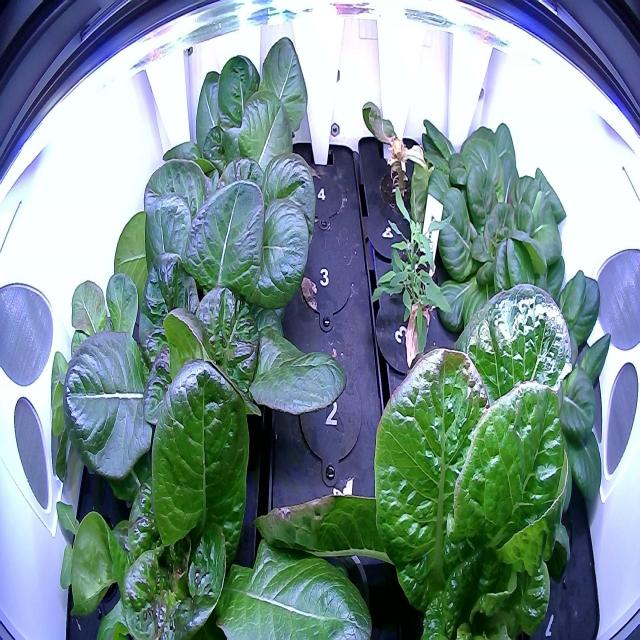Ready: (58, 176, 352, 500), (57, 352, 378, 640), (112, 91, 329, 308), (451, 270, 617, 523), (154, 28, 332, 217), (426, 156, 578, 336), (406, 88, 532, 228)
empty_pod: (294, 347, 367, 466), (296, 232, 354, 323), (296, 161, 346, 231)
